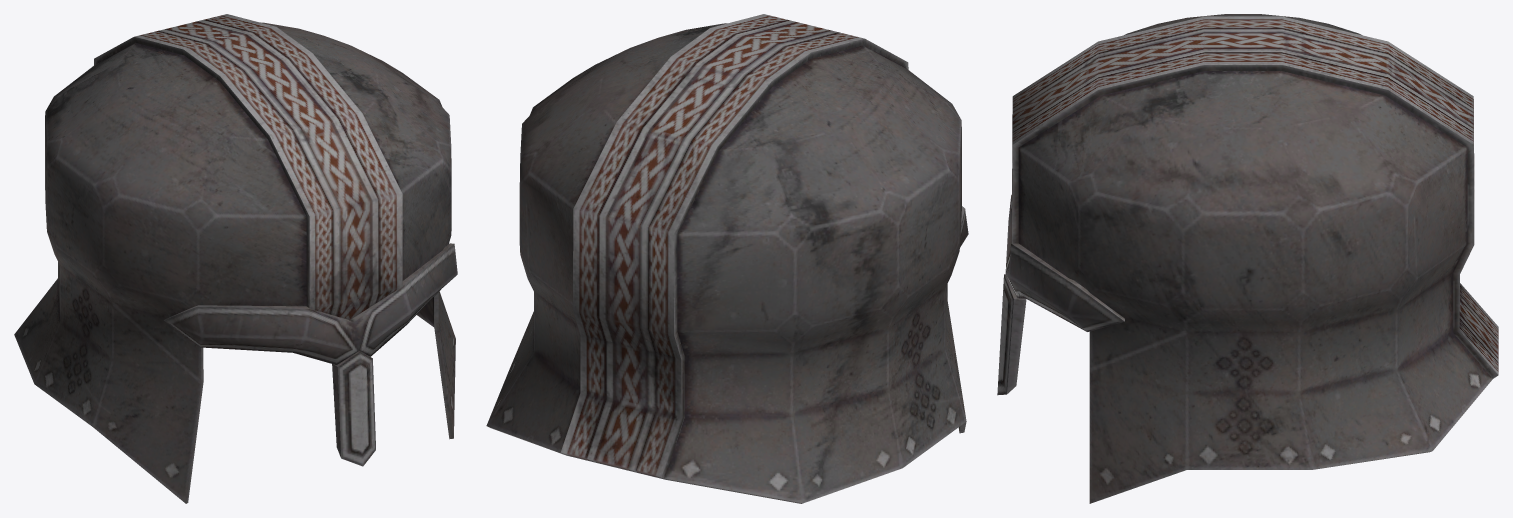
File: sk_dwarf_iron_helmet_light_d1.fbx
3 views of the same model, side by side, from view 1: azimuth 30°, elevation 25°; view 2: azimuth 150°, elevation 25°; view 3: azimuth 270°, elevation 25° (orthographic). The views are drawn at different scales.
Visible parts, largest first — view 1: sk_dwarf_iron_helmet_light_d1; view 2: sk_dwarf_iron_helmet_light_d1; view 3: sk_dwarf_iron_helmet_light_d1.
Part boxes in pixels (x1=…): sk_dwarf_iron_helmet_light_d1: x1=14, y1=14, x2=457, y2=503; sk_dwarf_iron_helmet_light_d1: x1=486, y1=14, x2=968, y2=503; sk_dwarf_iron_helmet_light_d1: x1=997, y1=14, x2=1498, y2=503.
Bounding box in the file's own units: 0.2728 × 0.3048 × 0.2645.
